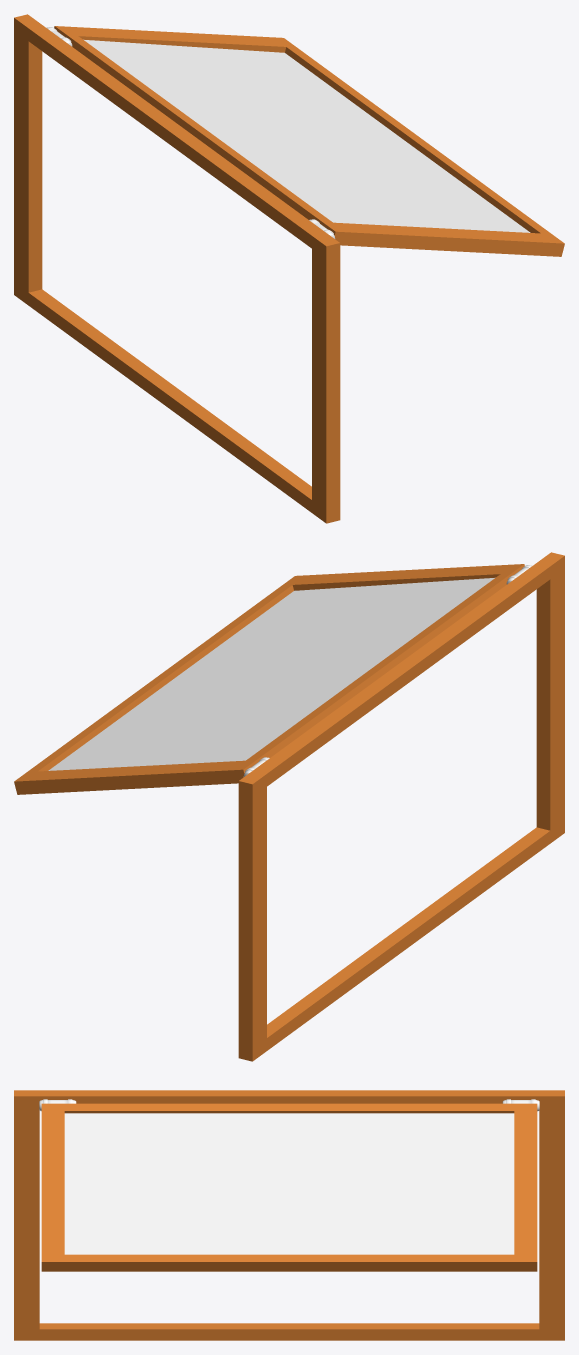
Rendered from prozor.glb.
3 renders of one model, top to bottom at view 1: azimuth 30°, elevation 25°; view 2: azimuth 150°, elevation 25°; view 3: azimuth 270°, elevation 25°, orthographic. The views are drawn at different scales.
Visible parts, largest first — view 1: Cube.003, Cube, Cube.002; view 2: Cube.003, Cube, Cube.002; view 3: Cube.003, Cube, Cube.002.
Part boxes in pixels (x1,y1,x2,y2): Cube.003: [83, 39, 530, 232]; Cube: [14, 14, 340, 523]; Cube.002: [54, 26, 564, 256]; Cube.003: [48, 577, 495, 770]; Cube: [238, 552, 564, 1061]; Cube.002: [14, 564, 524, 794]; Cube.003: [64, 1113, 514, 1254]; Cube: [14, 1090, 564, 1340]; Cube.002: [41, 1103, 537, 1271].
Size of the model in its own units: 39.79 by 41.47 by 84.69.
